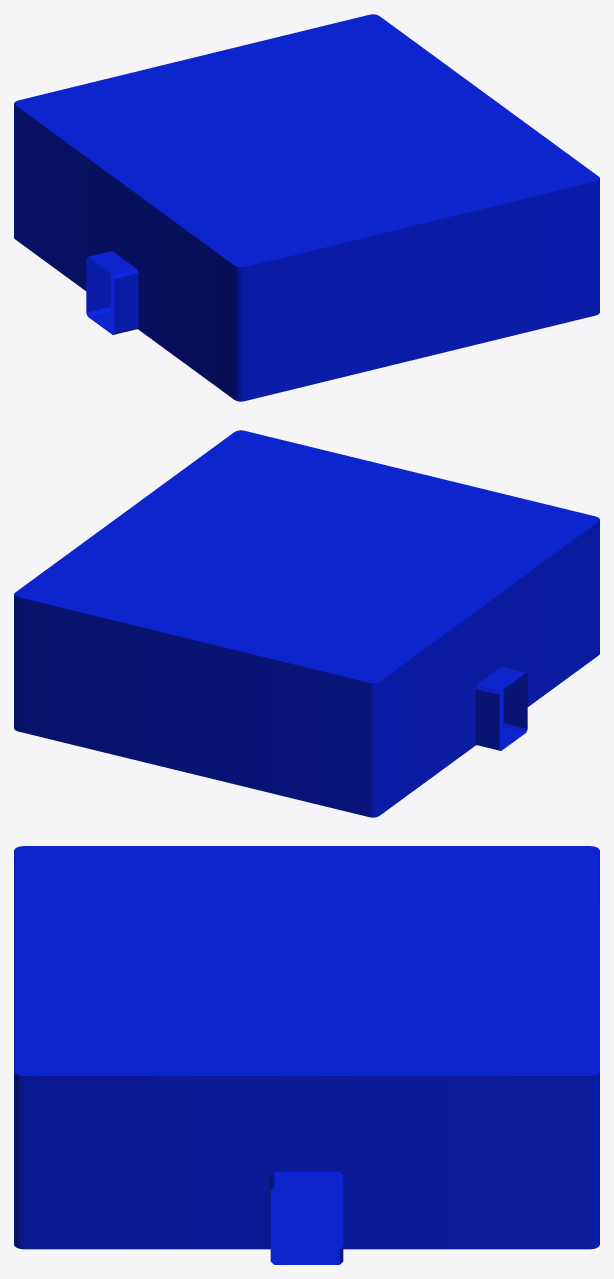
Rendered from BossRoomMesh.fbx.
3 renders of one model, top to bottom at view 1: azimuth 30°, elevation 25°; view 2: azimuth 150°, elevation 25°; view 3: azimuth 270°, elevation 25°, orthographic. The views are drawn at different scales.
Visible parts, largest first — view 1: BossRoom.001; view 2: BossRoom.001; view 3: BossRoom.001.
Boxes of the visible parts, x1=… form: BossRoom.001: x1=14, y1=14, x2=599, y2=401; BossRoom.001: x1=14, y1=430, x2=599, y2=817; BossRoom.001: x1=14, y1=846, x2=599, y2=1264.
Size of the model in its own units: 1700 by 530 by 1617.
